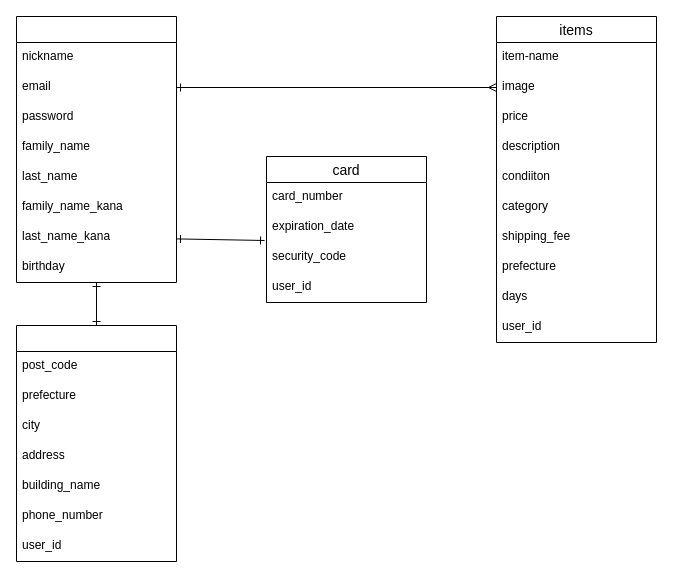
The diagram is 673 pixels wide and 578 high, and some of its shapes have lost their labels. Here are the shapes that lost their labels. From the top down, the box of each, then its label:
(16, 16, 176, 282): users
(16, 324, 176, 562): buy
